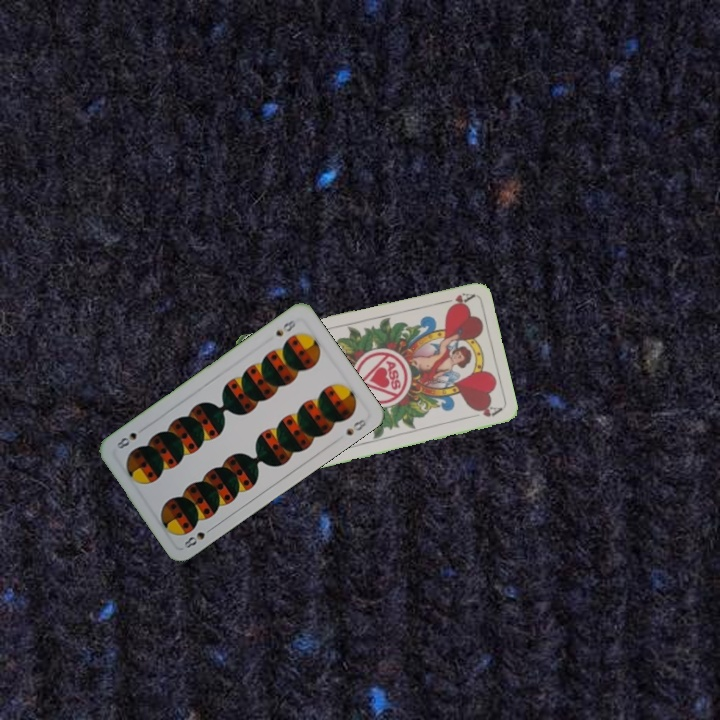HA: (435, 289, 475, 309)
S8: (180, 523, 216, 553), (271, 315, 298, 339)
